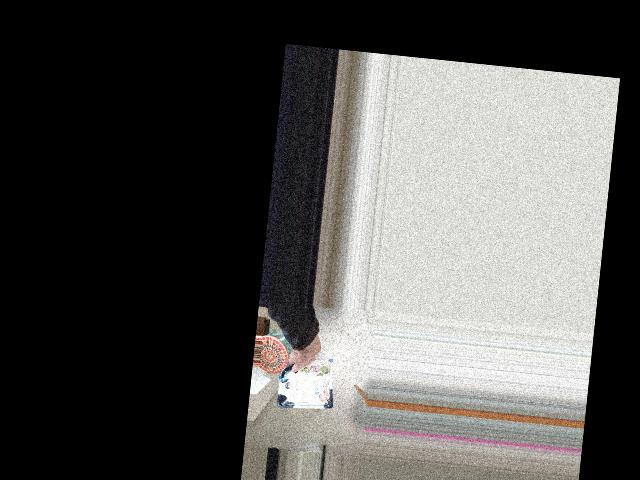cheese: (276, 335, 337, 401)
